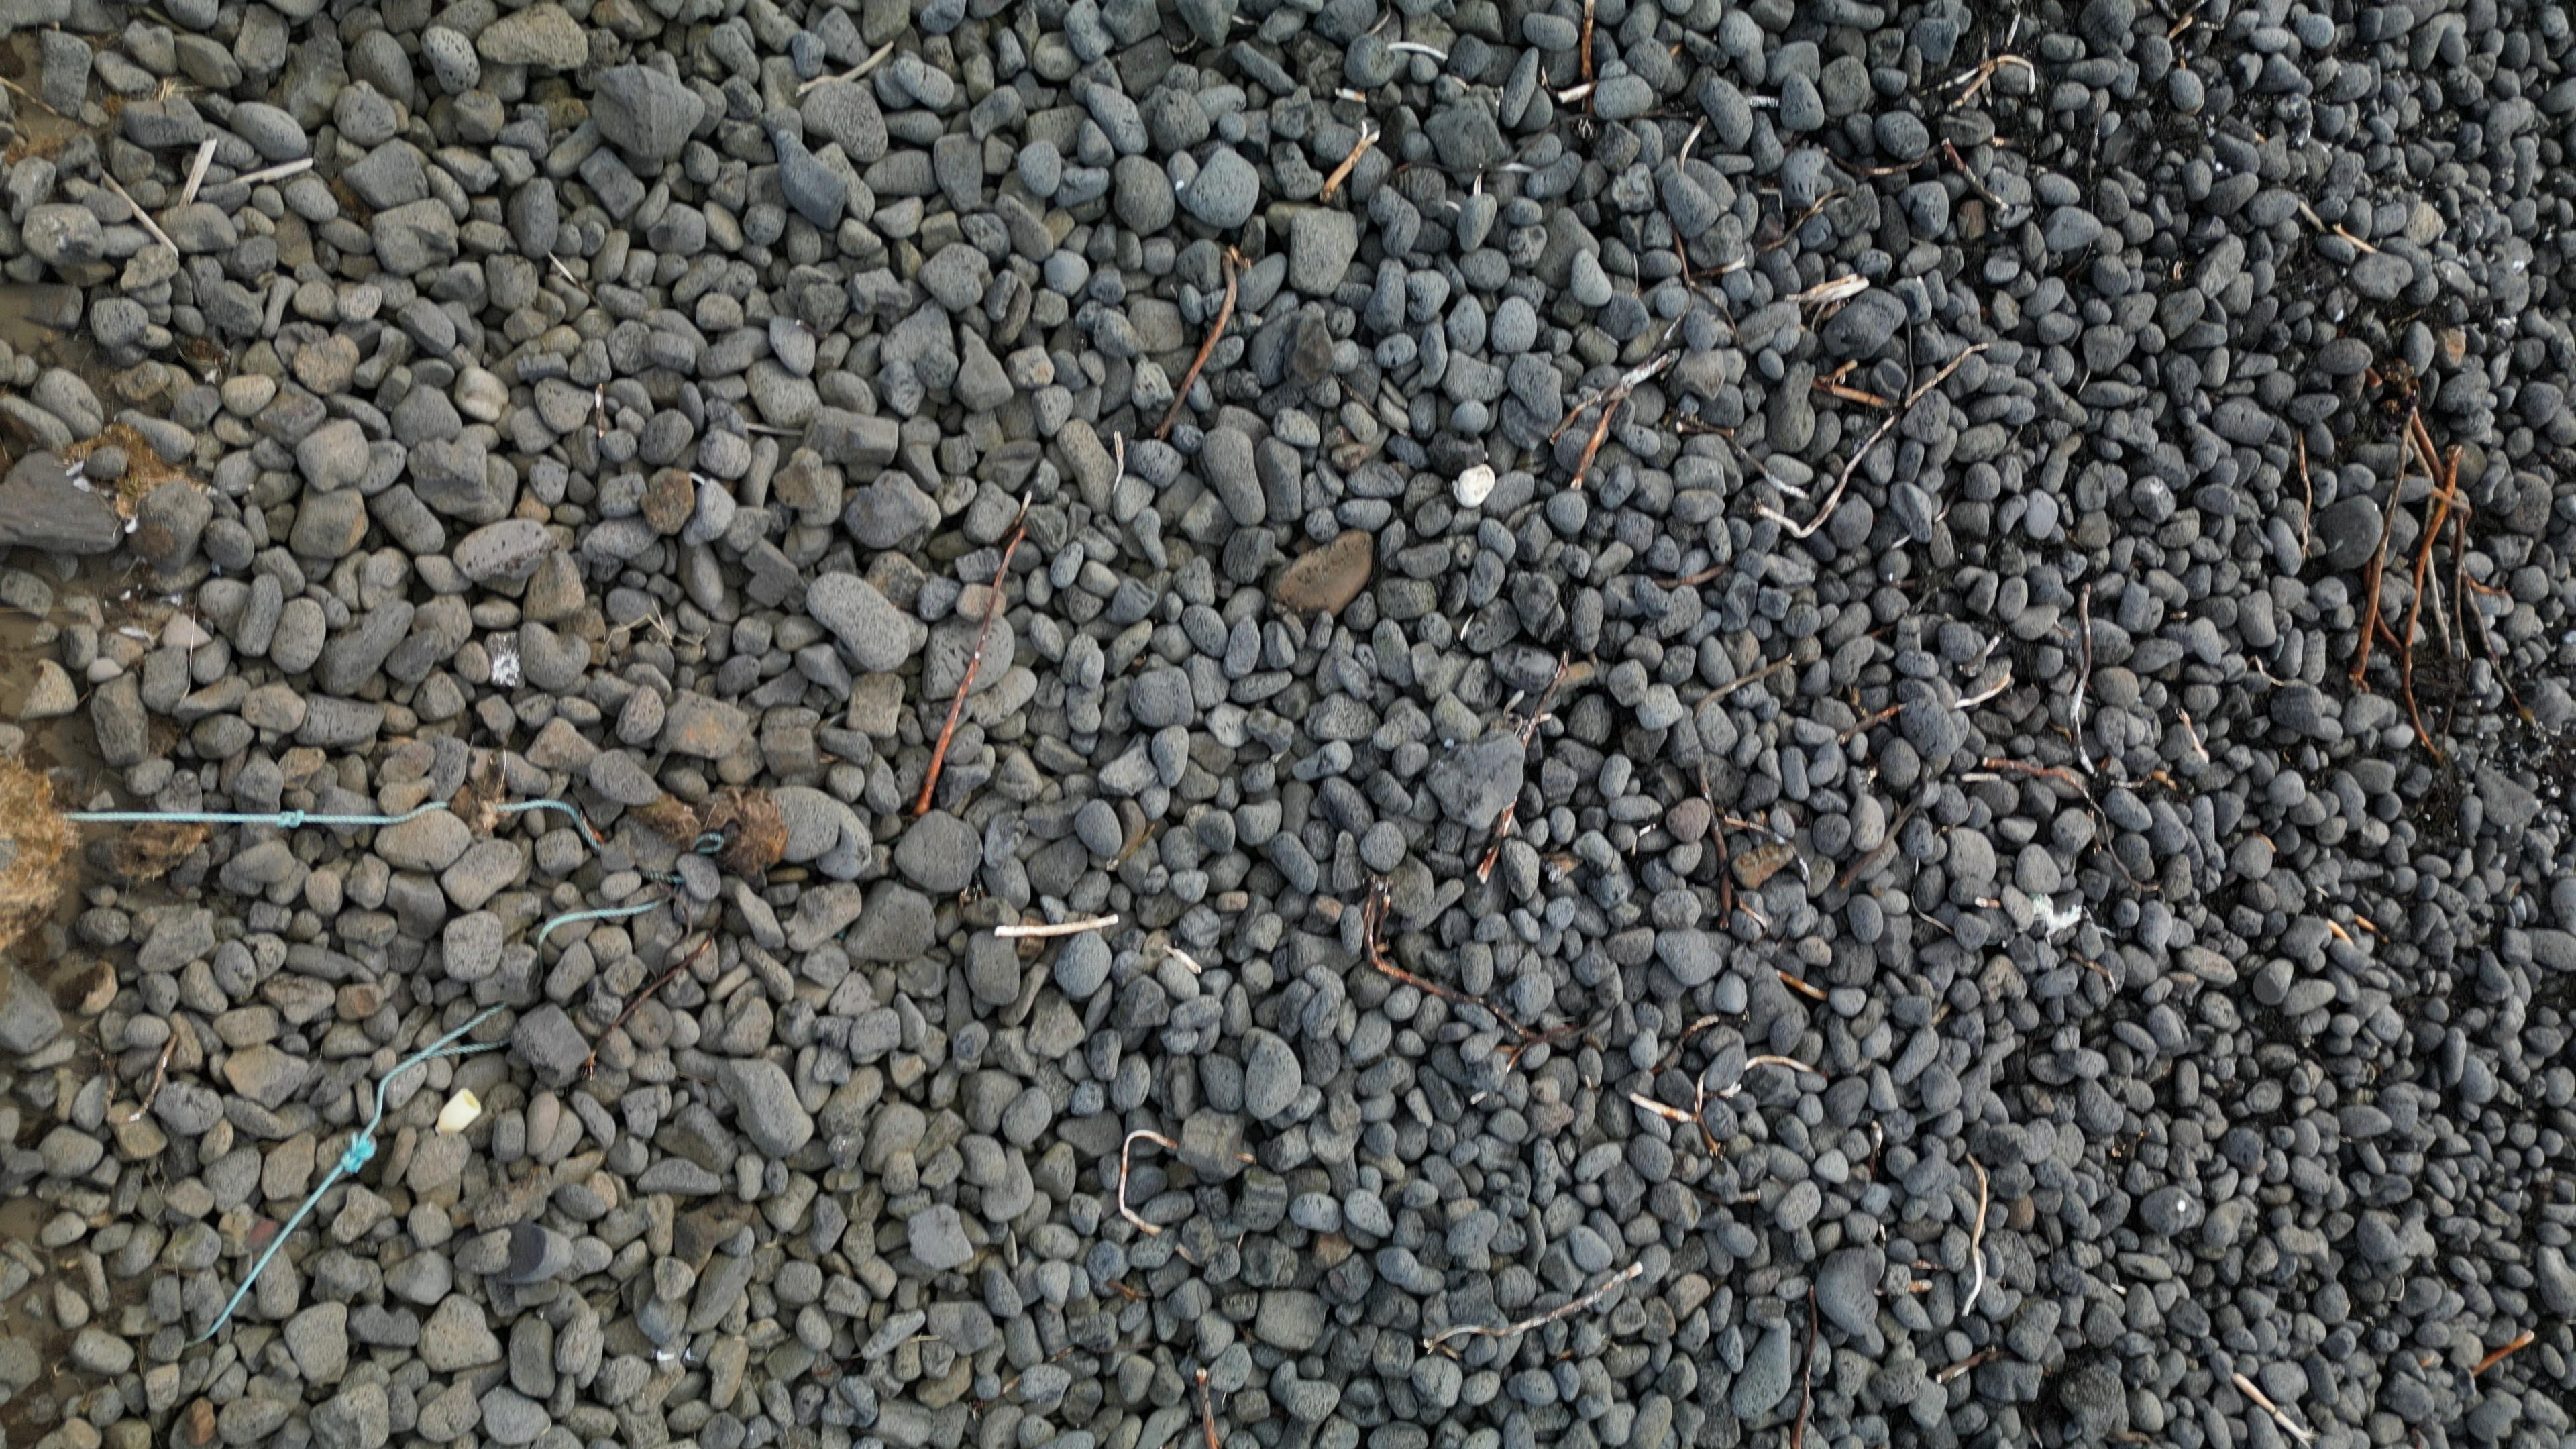trash: (211, 1067, 402, 1328), (66, 805, 443, 830), (533, 885, 674, 946), (402, 1006, 513, 1067), (493, 795, 604, 851), (684, 810, 724, 855)
